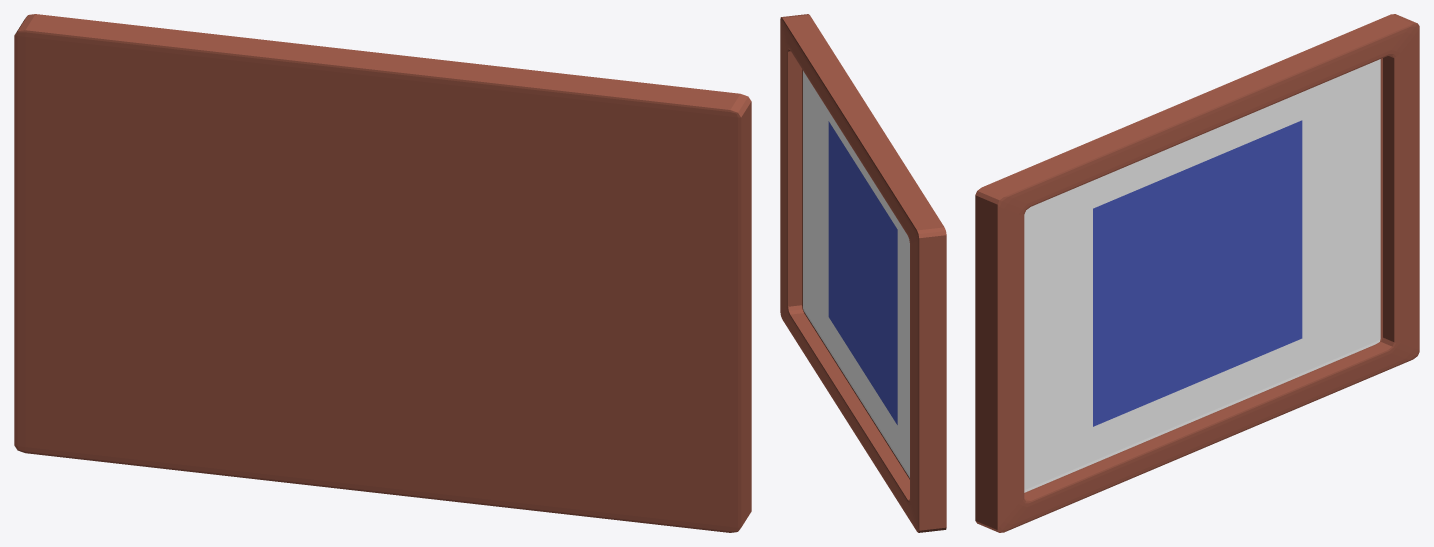
File: tablo5.fbx
3 views of the same model, side by side, from view 1: azimuth 30°, elevation 25°; view 2: azimuth 150°, elevation 25°; view 3: azimuth 270°, elevation 25° (orthographic). The views are drawn at different scales.
Visible parts, largest first — view 1: Cube.043; view 2: Cube.043; view 3: Cube.043.
Part boxes in pixels (box(x1,y1,x2,y2)): Cube.043: box(14, 14, 751, 532); Cube.043: box(780, 14, 946, 532); Cube.043: box(975, 14, 1419, 532).
Size of the model in its own units: 1120 by 933 by 1119.
